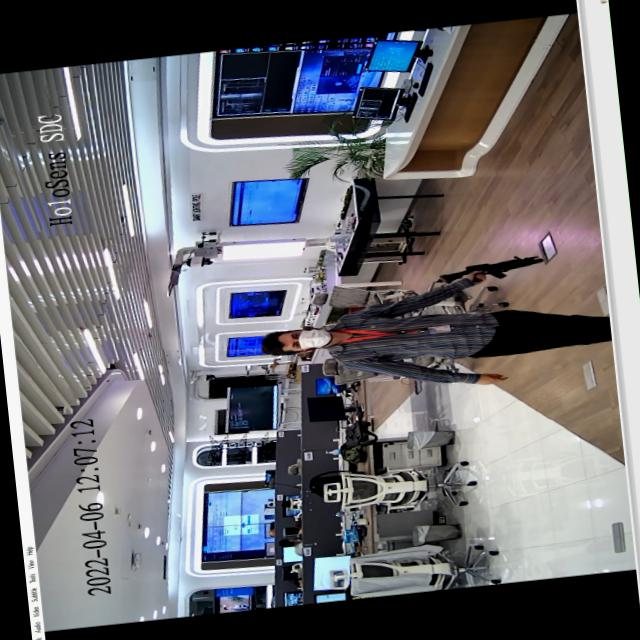long weapon: (428, 244, 544, 290)
